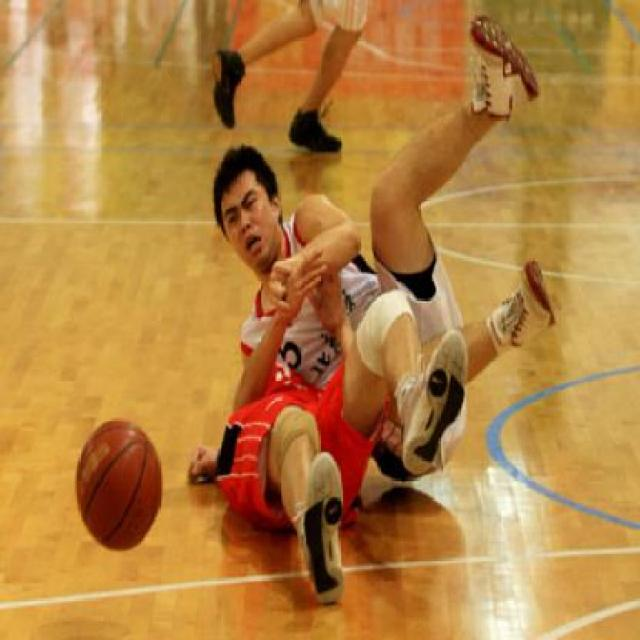fall: (181, 312, 394, 593)
